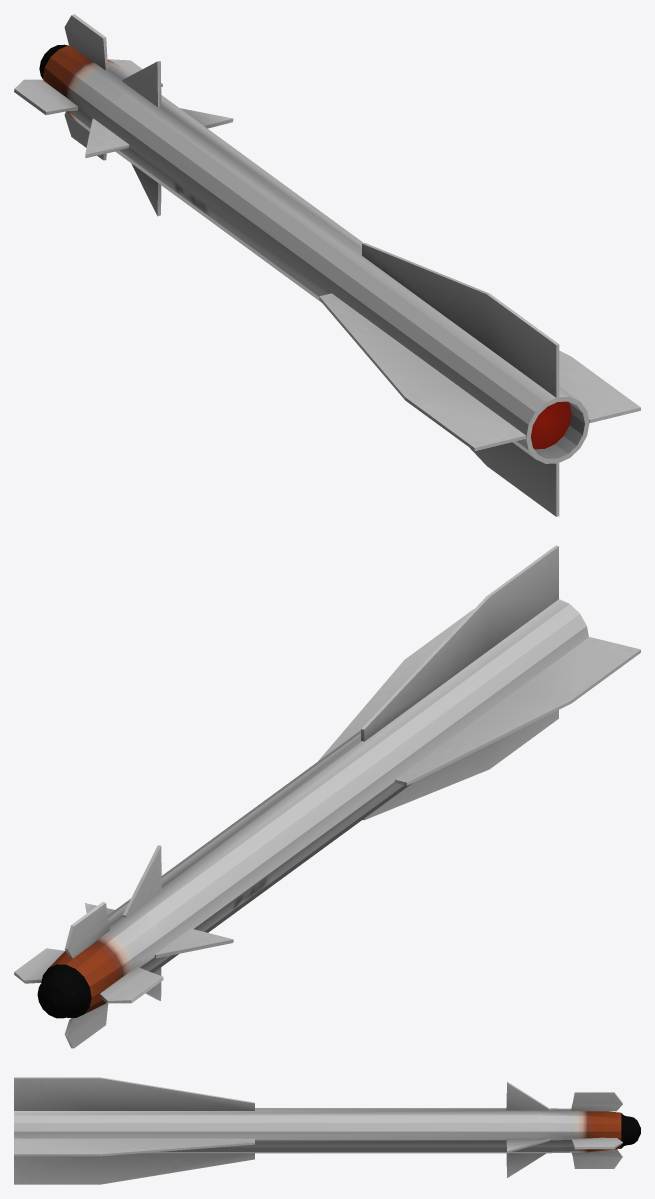
Rendered from aam_r60.glb.
The picture shows the model from 3 angles, top to bottom: view 1: azimuth 30°, elevation 25°; view 2: azimuth 150°, elevation 25°; view 3: azimuth 270°, elevation 25°; orthographic projection. The views are drawn at different scales.
Parts seen in each view (by area): view 1: body|R60Mat, body|Rear; view 2: body|R60Mat, body|Seeker.001; view 3: body|R60Mat, body|Seeker.001.
Part boxes in pixels (x1,y1,x2,y2): body|R60Mat: [14, 14, 640, 516]; body|Rear: [531, 401, 571, 449]; body|R60Mat: [14, 545, 640, 1048]; body|Seeker.001: [37, 964, 91, 1018]; body|R60Mat: [14, 1077, 622, 1184]; body|Seeker.001: [621, 1113, 640, 1148].
Bounding box in the file's own units: 0.4081 × 0.4028 × 2.15.
3 materials, 1 textured.
